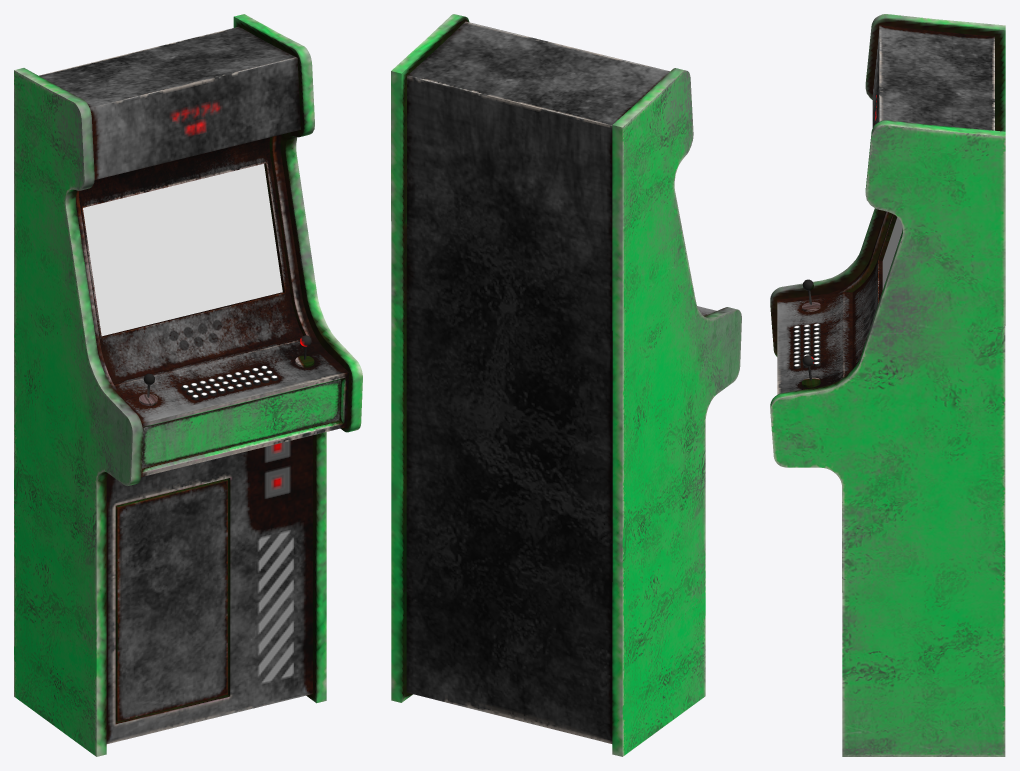
Rendered from arcade.glb.
The picture shows the model from 3 angles, left to right: view 1: azimuth 30°, elevation 25°; view 2: azimuth 150°, elevation 25°; view 3: azimuth 270°, elevation 25°; orthographic projection.
Visible parts, largest first — view 1: arcade machine_green, Cylinder.002; view 2: arcade machine_green; view 3: arcade machine_green, Cylinder.002.
Boxes of the visible parts, bbox=[...] form: arcade machine_green: bbox=[14, 14, 362, 756]; Cylinder.002: bbox=[181, 365, 278, 400]; arcade machine_green: bbox=[391, 14, 741, 756]; arcade machine_green: bbox=[770, 14, 1005, 756]; Cylinder.002: bbox=[793, 323, 820, 368].
Bounding box in the file's own units: 0.9785 × 2.59 × 0.874.
2 materials, 1 textured.
